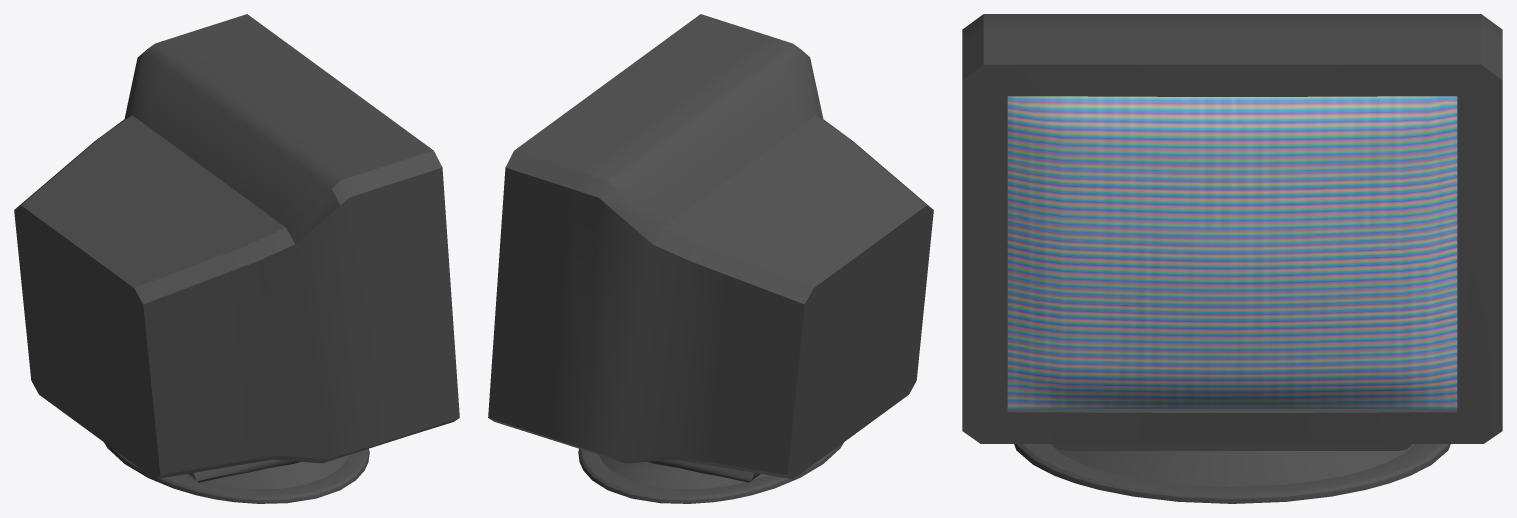
The model's file is Ordi_ecran_introma.fbx.
3 renders of one model, left to right at view 1: azimuth 30°, elevation 25°; view 2: azimuth 150°, elevation 25°; view 3: azimuth 270°, elevation 25°, orthographic. The views are drawn at different scales.
Visible parts, largest first — view 1: Cube; view 2: Cube; view 3: Cube.
Boxes of the visible parts, x1,y1,x2,y2 form: Cube: (14,14,459,503); Cube: (488,14,933,503); Cube: (962,14,1502,503).
Bounding box in the file's own units: 220 × 239 × 266.
